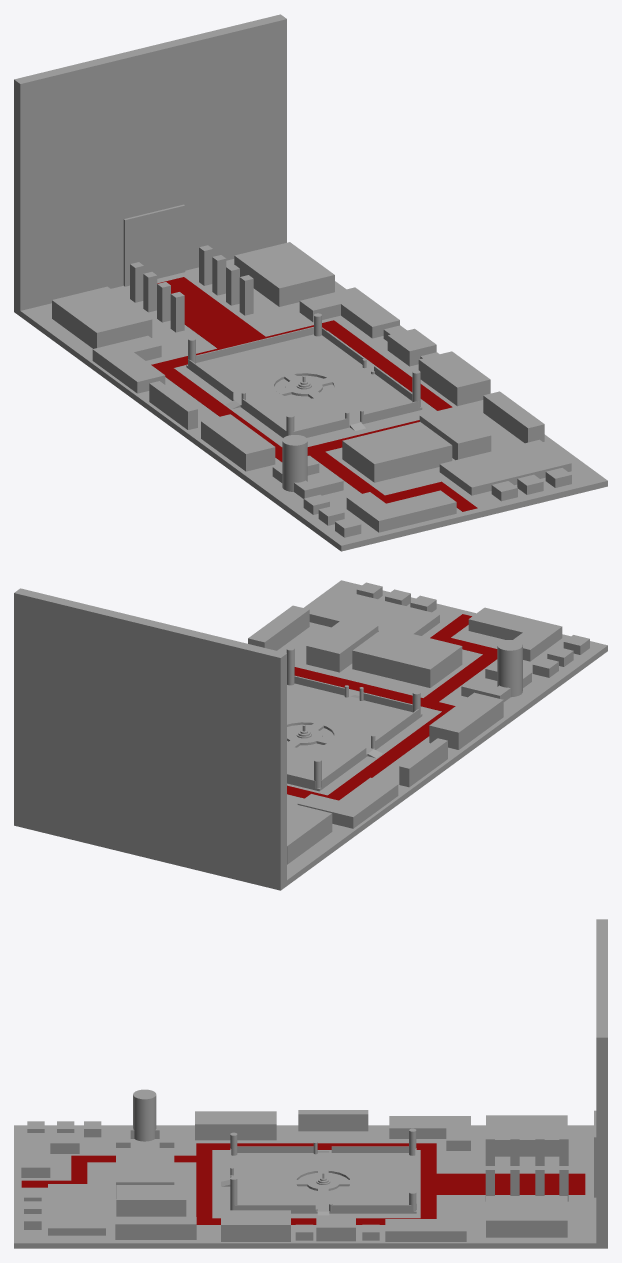
The model's file is Ruins_Greybox_Test2.fbx.
The picture shows the model from 3 angles, top to bottom: view 1: azimuth 30°, elevation 25°; view 2: azimuth 150°, elevation 25°; view 3: azimuth 270°, elevation 25°; orthographic projection. The views are drawn at different scales.
Visible parts, largest first — view 1: Wall, Ground, Plaza_frozen:Floor, Cube_Building2, Cube_Building5, Cube_Building6, Cube_Building1, pCube19, L_Building_1, L_Building_2, L_Building_3, Cube_Building4 (+13 smaller); view 2: Wall, Ground, Plaza_frozen:Floor, Cube_Building2, Cube_Building1, L_Building_1, Cube_Building4, L_Building_2, Cube_Building7, Cube_Building5, Cube_Building3, pCube20 (+8 smaller); view 3: Ground, Plaza_frozen:Floor, Wall, Cube_Building6, Cube_Building1, Cube_Building5, pCube19, Cube_Building4, Cube_Building7, Cube_Building9, L_Building_3, Cube_Building2 (+17 smaller).
Boxes of the visible parts, x1,y1,x2,y2 form: Wall: (14, 14, 286, 316); Ground: (20, 259, 607, 551); Plaza_frozen:Floor: (186, 334, 422, 437); Cube_Building2: (342, 422, 452, 482); Cube_Building5: (52, 286, 152, 348); Cube_Building6: (234, 242, 334, 306); Cube_Building1: (439, 439, 571, 495); pCube19: (157, 277, 265, 348); L_Building_1: (346, 490, 456, 532); L_Building_2: (92, 335, 165, 393); L_Building_3: (299, 287, 399, 338); Cube_Building4: (201, 414, 275, 471); Wall: (14, 588, 286, 890); Ground: (277, 580, 607, 885); Plaza_frozen:Floor: (287, 683, 422, 791); Cube_Building2: (352, 627, 462, 687); Cube_Building1: (309, 590, 439, 635); L_Building_1: (468, 607, 562, 661); Cube_Building4: (429, 692, 503, 749); L_Building_2: (297, 777, 398, 828); Cube_Building7: (306, 617, 378, 672); Cube_Building5: (287, 802, 332, 864); Cube_Building3: (248, 605, 309, 650); pCube20: (328, 711, 446, 798); Ground: (14, 1125, 596, 1248); Plaza_frozen:Floor: (231, 1152, 416, 1213); Wall: (594, 919, 607, 1248); Cube_Building6: (486, 1196, 567, 1237); Cube_Building1: (48, 1184, 105, 1235); Cube_Building5: (486, 1115, 567, 1156); pCube19: (436, 1173, 585, 1194); Cube_Building4: (195, 1111, 276, 1140); Cube_Building7: (116, 1185, 186, 1216); Cube_Building9: (221, 1210, 290, 1241); L_Building_3: (385, 1206, 466, 1241); Cube_Building2: (116, 1148, 174, 1198).
Size of the model in its own units: 240 by 200 by 510.
